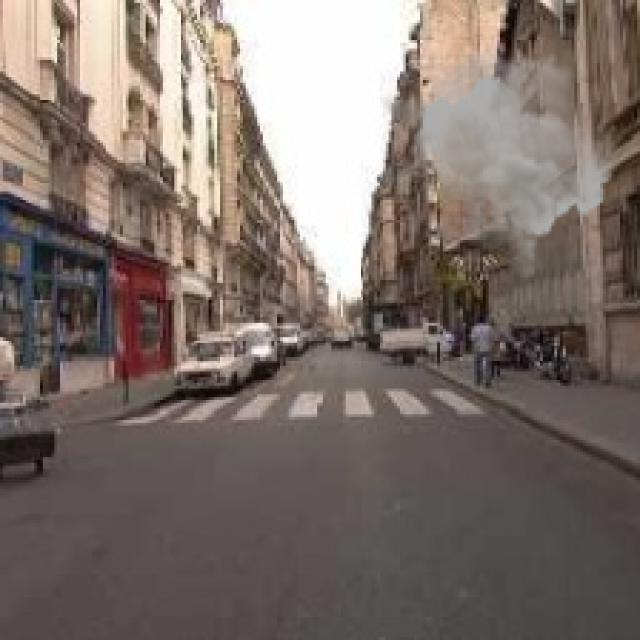smoke: (380, 43, 617, 283)
